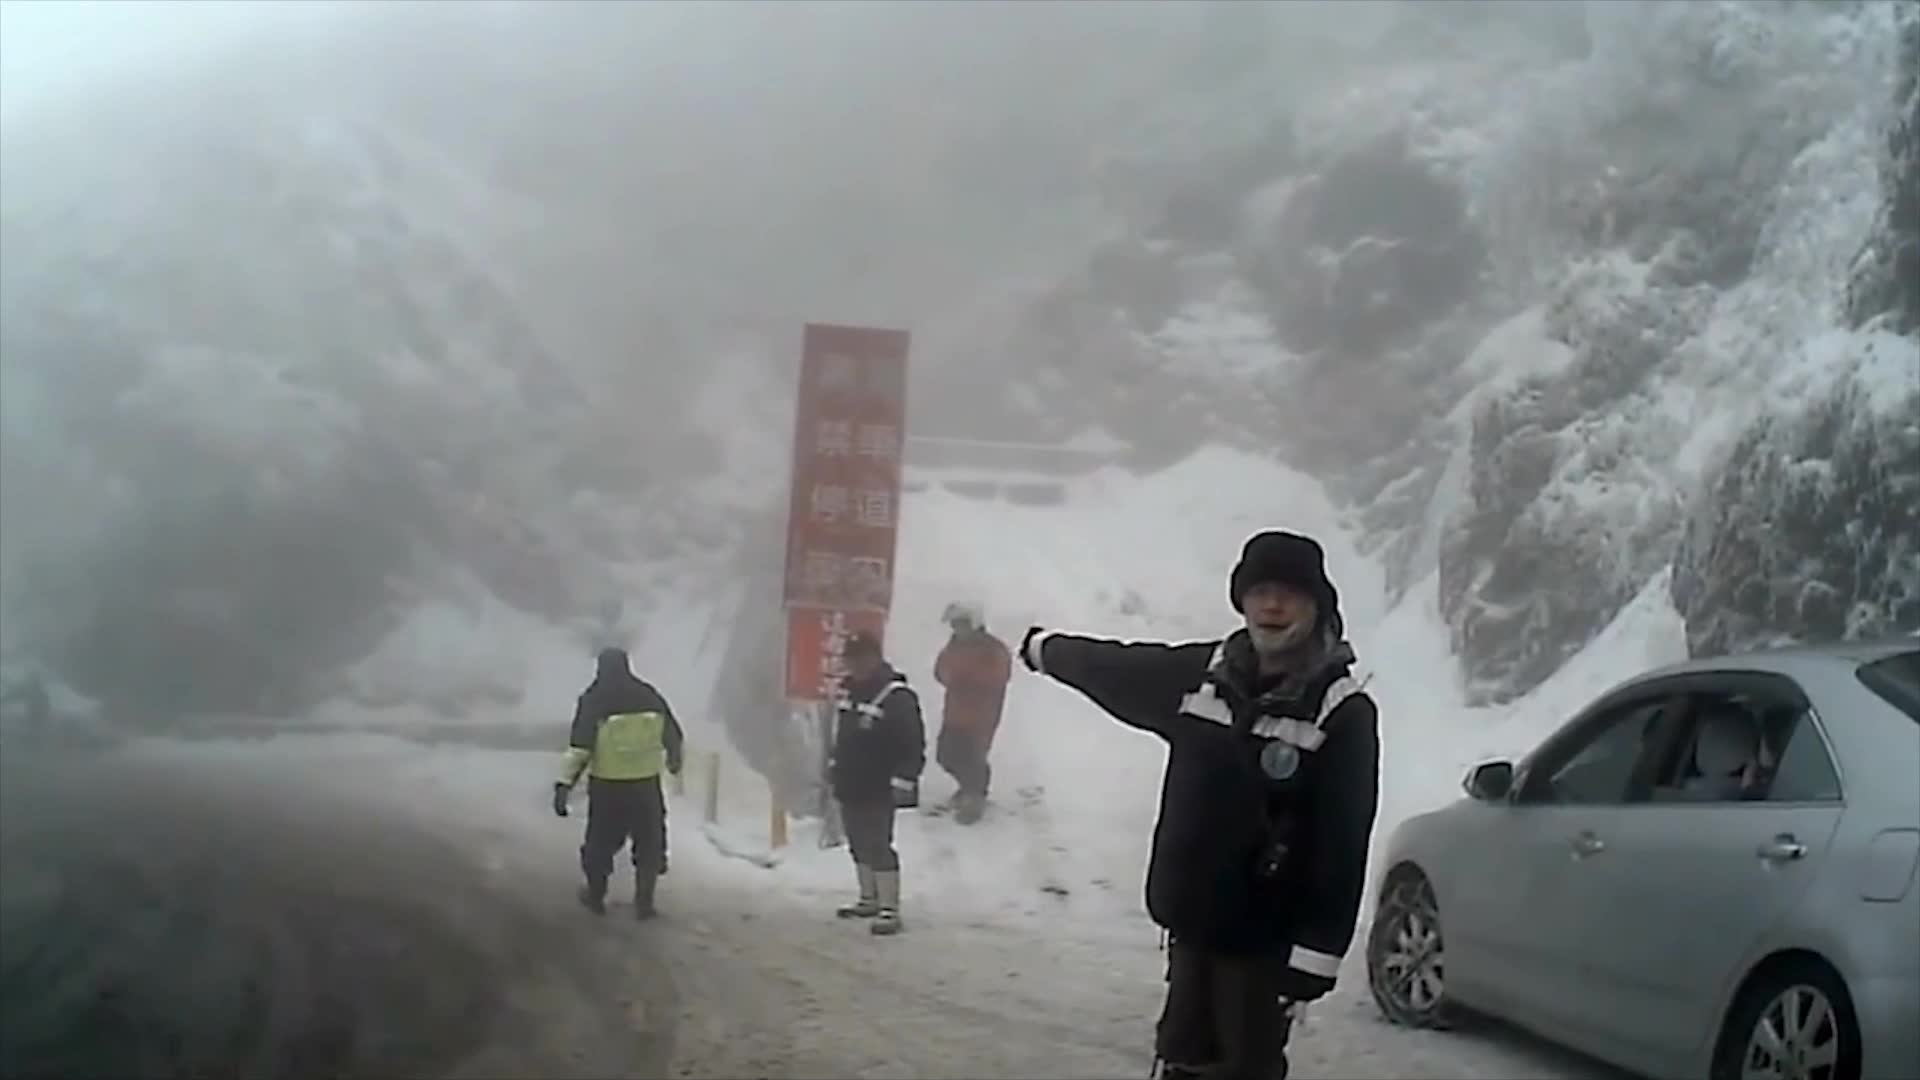pedestrian: (1019, 519, 1385, 1080), (550, 649, 700, 917), (822, 628, 927, 939), (930, 599, 1016, 821)
vehicle: (1362, 640, 1919, 1080)
